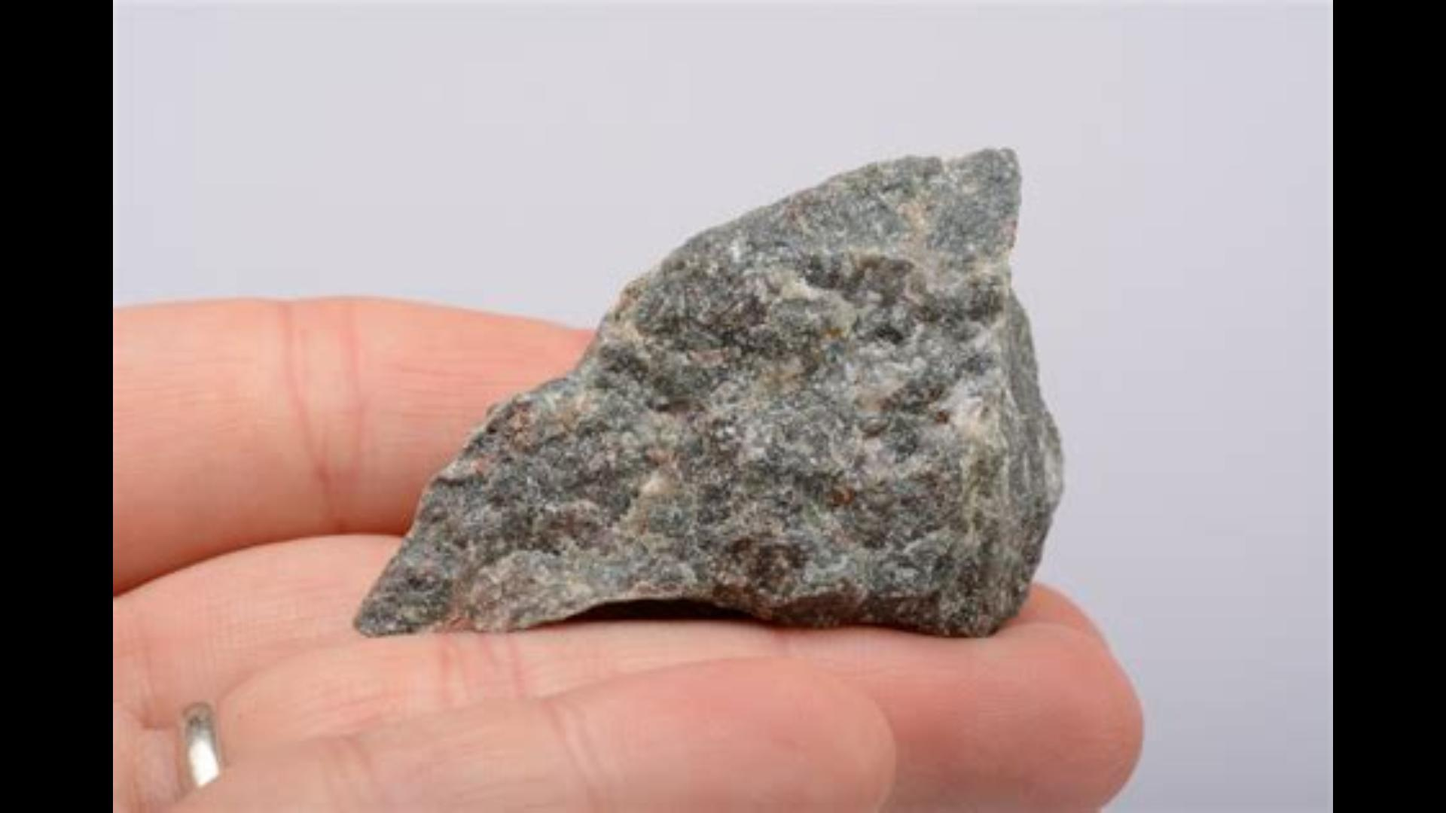rock: (357, 152, 1058, 628)
